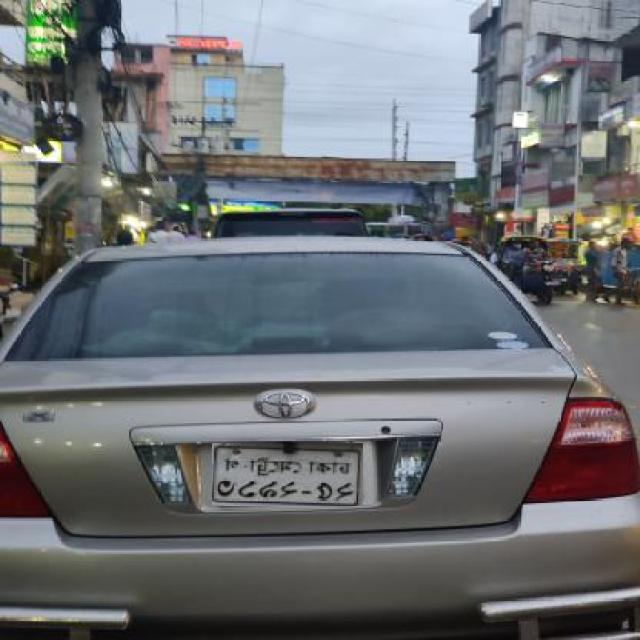numberplate: (212, 443, 363, 506)
